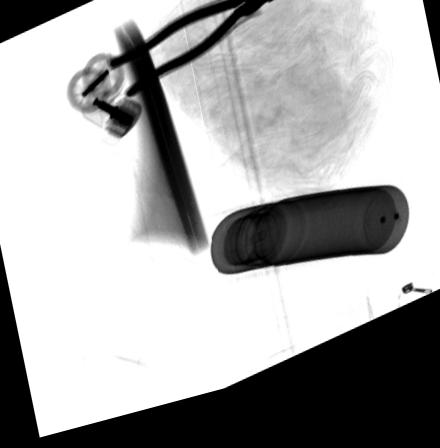Pliers: (106, 0, 294, 108)
